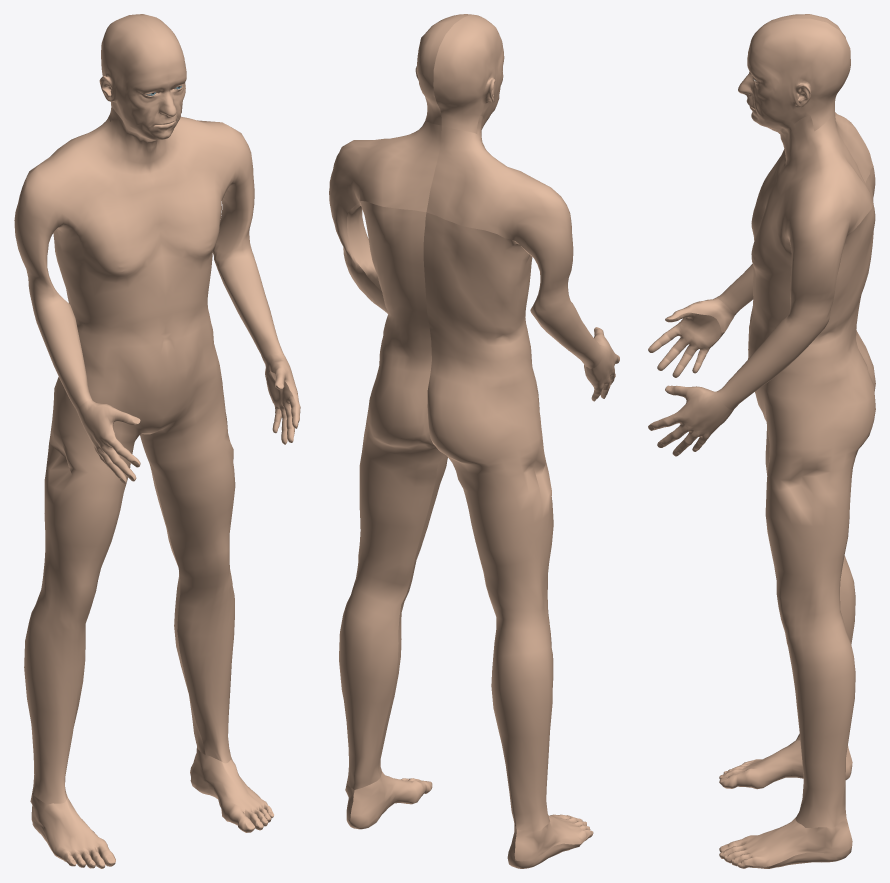
Rendered from body-senior-maennlich-real-v3.glb.
3 renders of one model, left to right at view 1: azimuth 30°, elevation 25°; view 2: azimuth 150°, elevation 25°; view 3: azimuth 270°, elevation 25°, orthographic.
Visible parts, largest first — view 1: real-human-body; view 2: real-human-body; view 3: real-human-body.
Boxes of the visible parts, bbox=[...] form: real-human-body: bbox=[14, 14, 300, 868]; real-human-body: bbox=[329, 14, 619, 868]; real-human-body: bbox=[648, 14, 875, 868].
Bounding box in the file's own units: 0.5001 × 1.65 × 0.4242.
